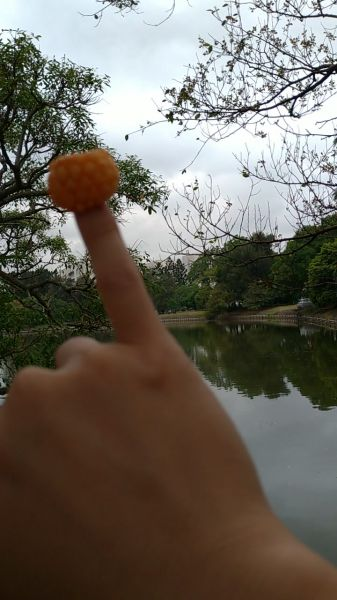eggs: (47, 149, 121, 211)
